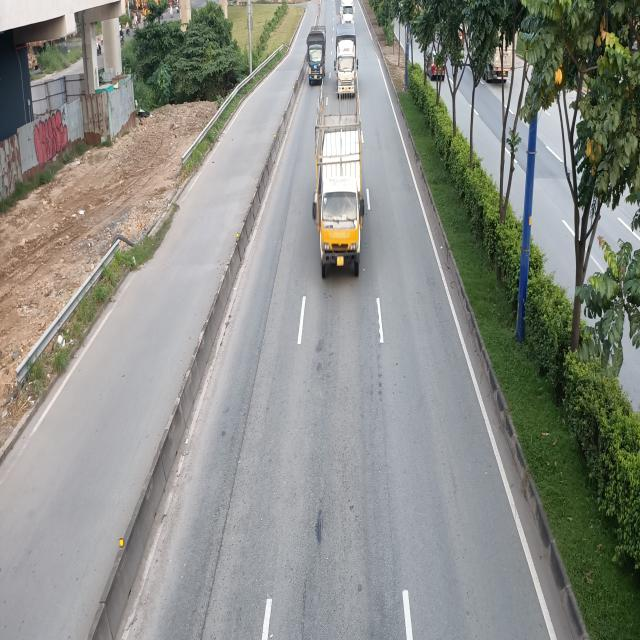truck: (315, 106, 370, 277), (335, 21, 359, 99), (308, 25, 326, 86)
